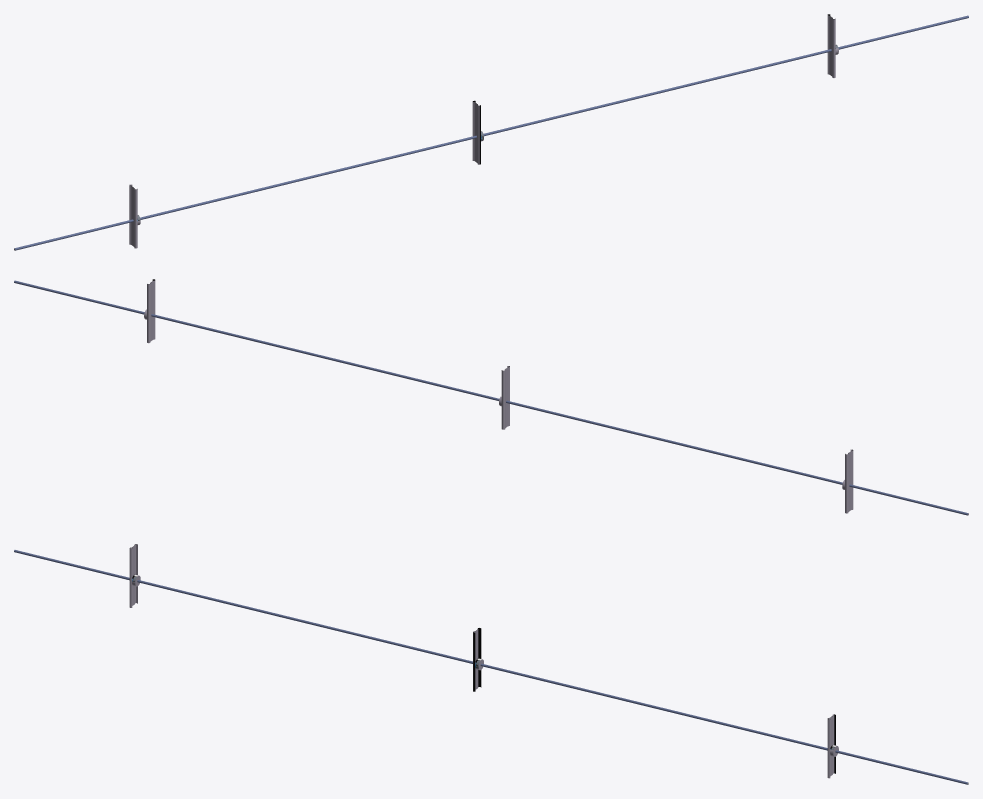
Rendered from PanelBase30m.glb.
3 views of the same model, one above another, from view 1: azimuth 30°, elevation 25°; view 2: azimuth 150°, elevation 25°; view 3: azimuth 330°, elevation 25° (orthographic).
Parts seen in each view (by area): view 1: Cylinder.001; view 2: Cylinder.001; view 3: Cylinder.001.
Boxes of the visible parts, x1,y1,x2,y2 form: Cylinder.001: [14, 14, 968, 250]; Cylinder.001: [14, 279, 968, 515]; Cylinder.001: [14, 544, 968, 784].
Size of the model in its own units: 31.92 by 1.89 by 0.3766.
Materials: 3 (1 with a texture image).
